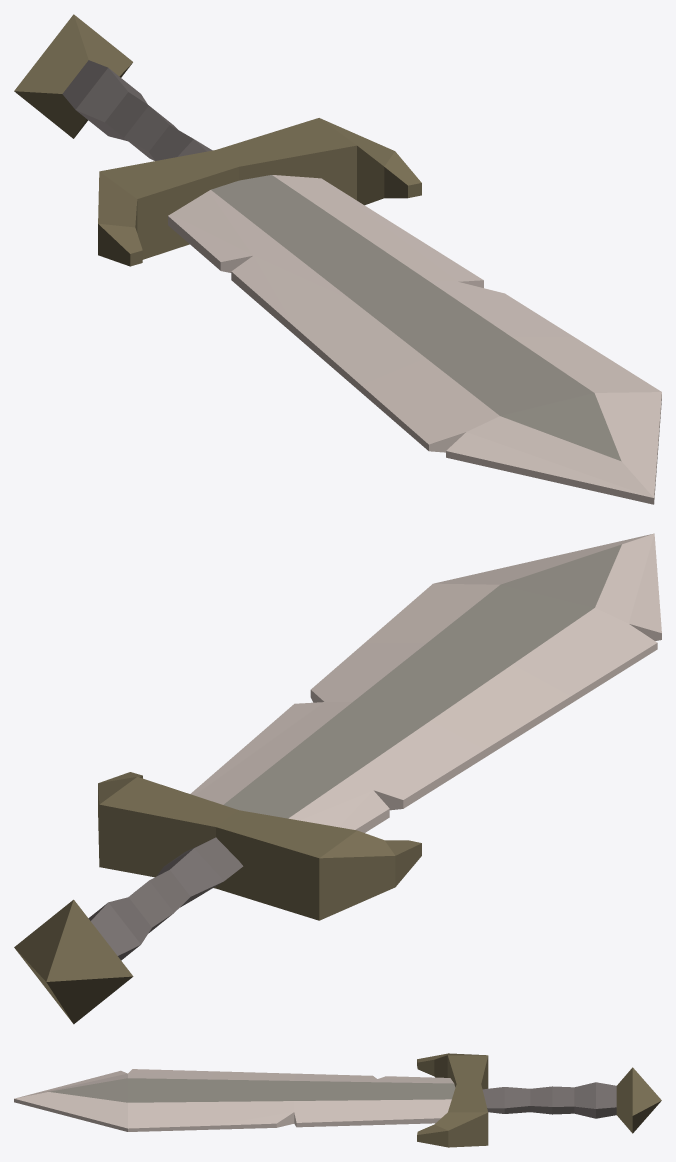
File: sword_b.fbx
3 views of the same model, one above another, from view 1: azimuth 30°, elevation 25°; view 2: azimuth 150°, elevation 25°; view 3: azimuth 270°, elevation 25° (orthographic). The views are drawn at different scales.
Visible parts, largest first — view 1: SwordB; view 2: SwordB; view 3: SwordB.
Part boxes in pixels (x1=…): SwordB: x1=14, y1=14, x2=661, y2=504; SwordB: x1=14, y1=533, x2=661, y2=1024; SwordB: x1=14, y1=1053, x2=661, y2=1147.
Bounding box in the file's own units: 74 × 29.75 × 262.
